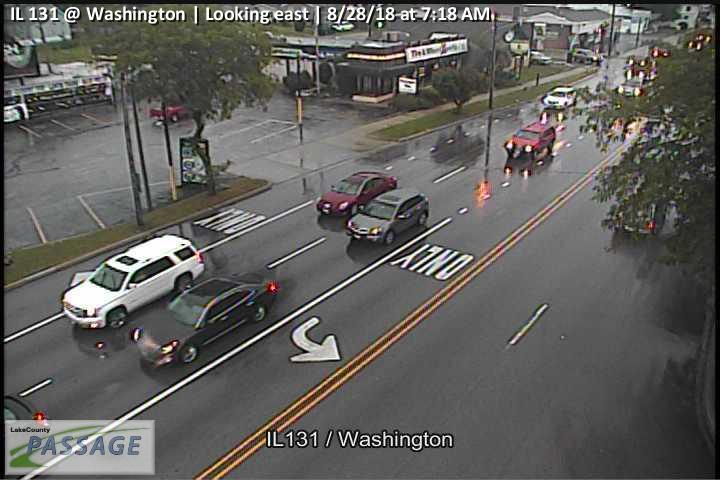SUV: (62, 234, 206, 330), (345, 189, 429, 244), (504, 122, 556, 161), (541, 86, 578, 109), (570, 47, 605, 66)
Sedan: (131, 269, 280, 368), (316, 168, 399, 216), (518, 48, 553, 66), (539, 105, 571, 122)
